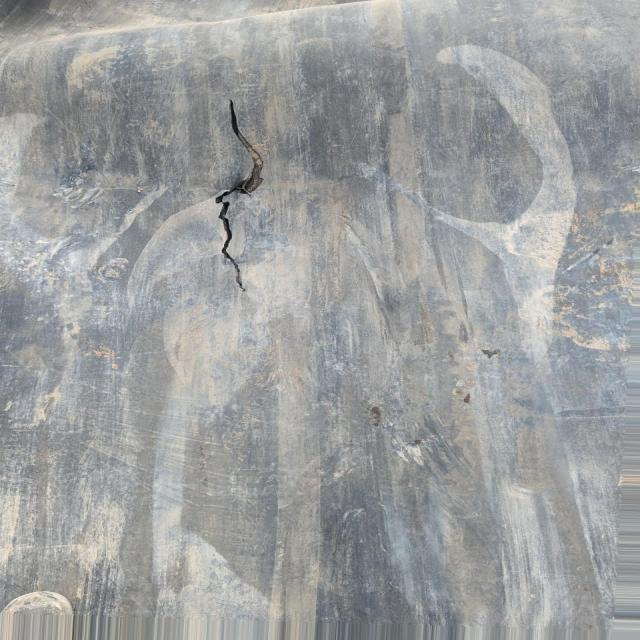Tear: (201, 97, 276, 294)
